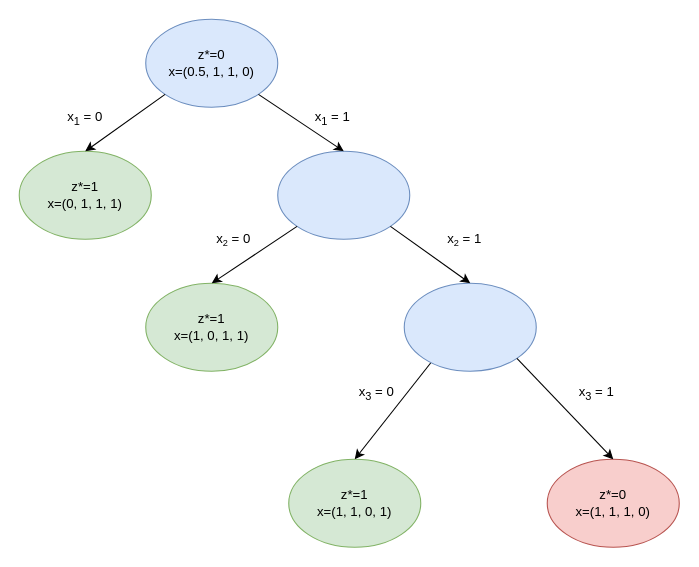
This 699x567 diagram has some shape labels left out. Here are the shapes that lost their labels. From the top down, the box of each, then its label:
(277, 150, 410, 239): z*=0 x=(1, 0.5, 1, 0)
(403, 282, 536, 371): z*=0 x=(1, 1, 0.5, 0)
